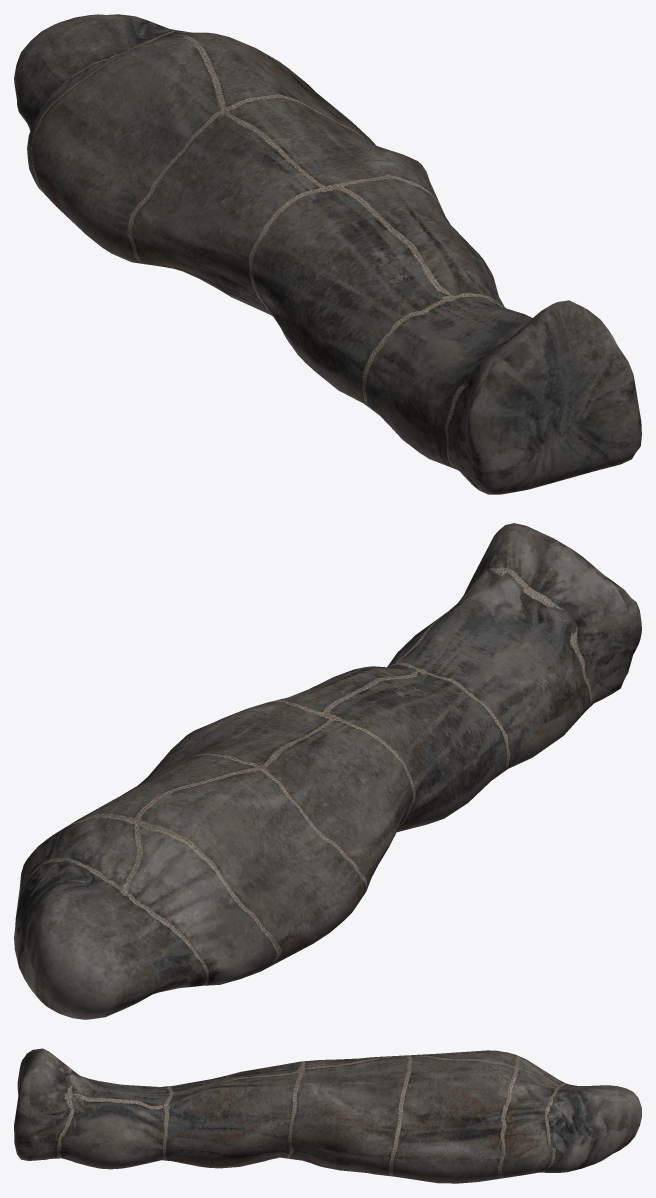
3 views of the same model, one above another, from view 1: azimuth 30°, elevation 25°; view 2: azimuth 150°, elevation 25°; view 3: azimuth 270°, elevation 25° (orthographic). The views are drawn at different scales.
Visible parts, largest first — view 1: defaultMaterial; view 2: defaultMaterial; view 3: defaultMaterial.
Boxes of the visible parts, x1,y1,x2,y2 form: defaultMaterial: (14,14,641,494); defaultMaterial: (14,523,641,1019); defaultMaterial: (14,1048,641,1183).
Bounding box in the file's own units: 0.5875 × 0.3601 × 1.9.
1 material, 1 textured.
